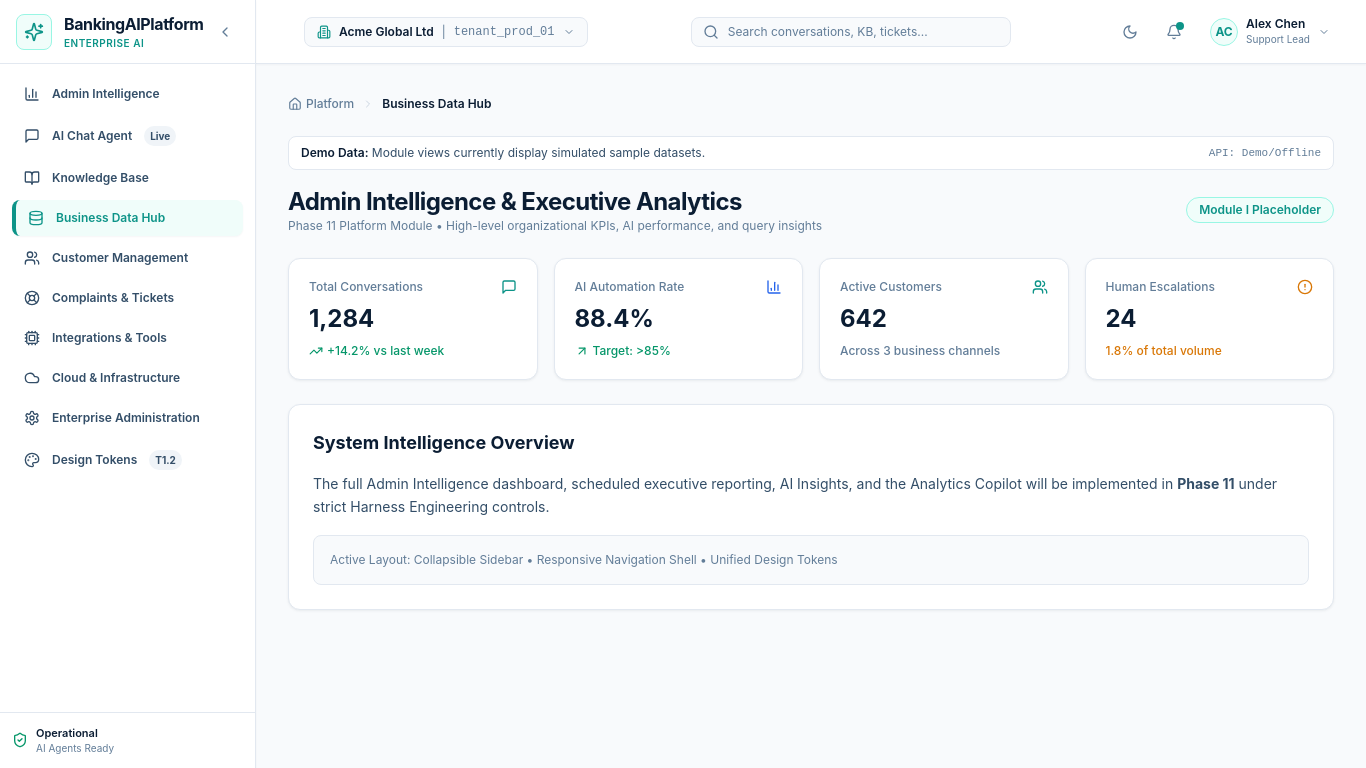
BankingAIPlatform AppShell, Navigation & Module Views Verification (Task 1.4 & 1.5) › navigates to Knowledge Base and displays collections and pgvector status
What coordinates should you click on to do the following:
click the link "Knowledge Base"
I would click on:
 (86, 178)
Its box is left=24, top=170, right=149, bottom=186.
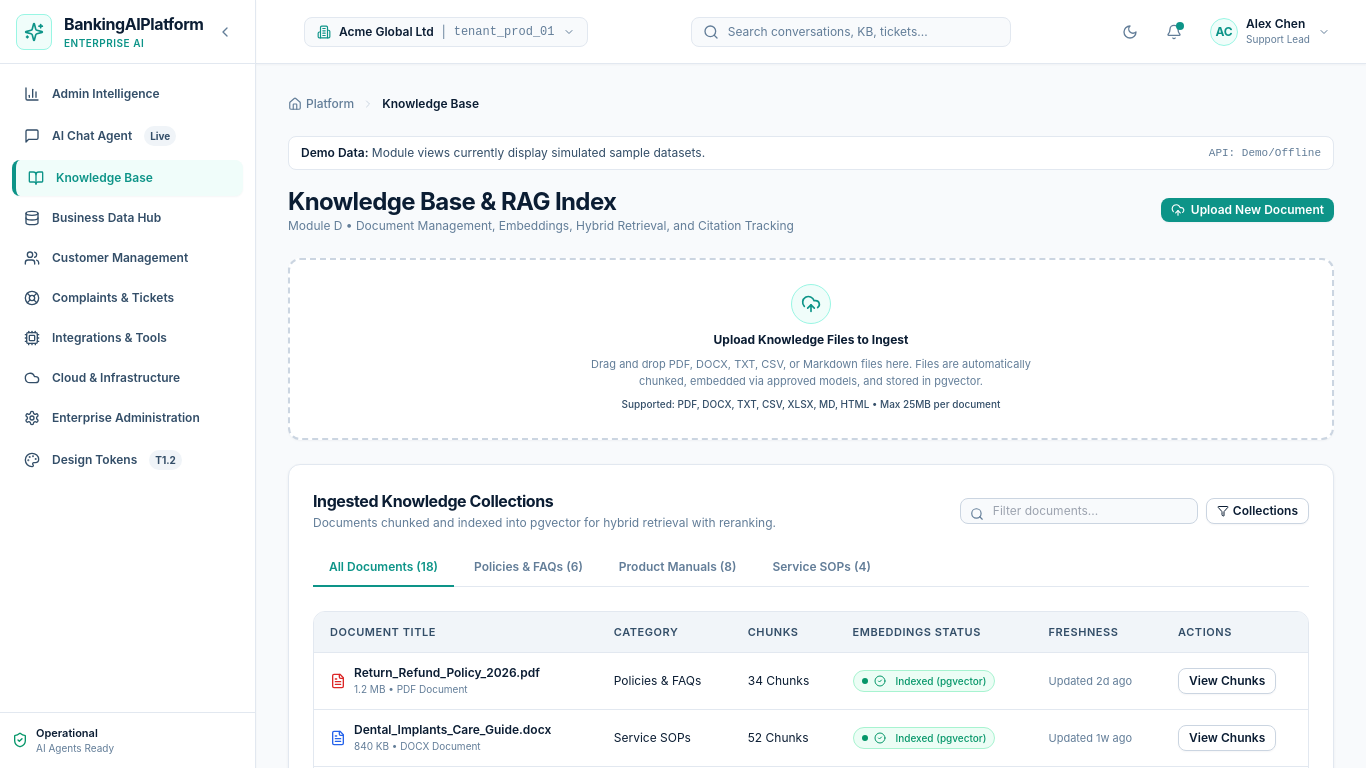
Check: the heading "Knowledge Base & RAG Index" is shown, box left=288, top=187, right=616, bottom=216
Check: the text "Indexed (pgvector)" is shown, box left=852, top=670, right=995, bottom=692
